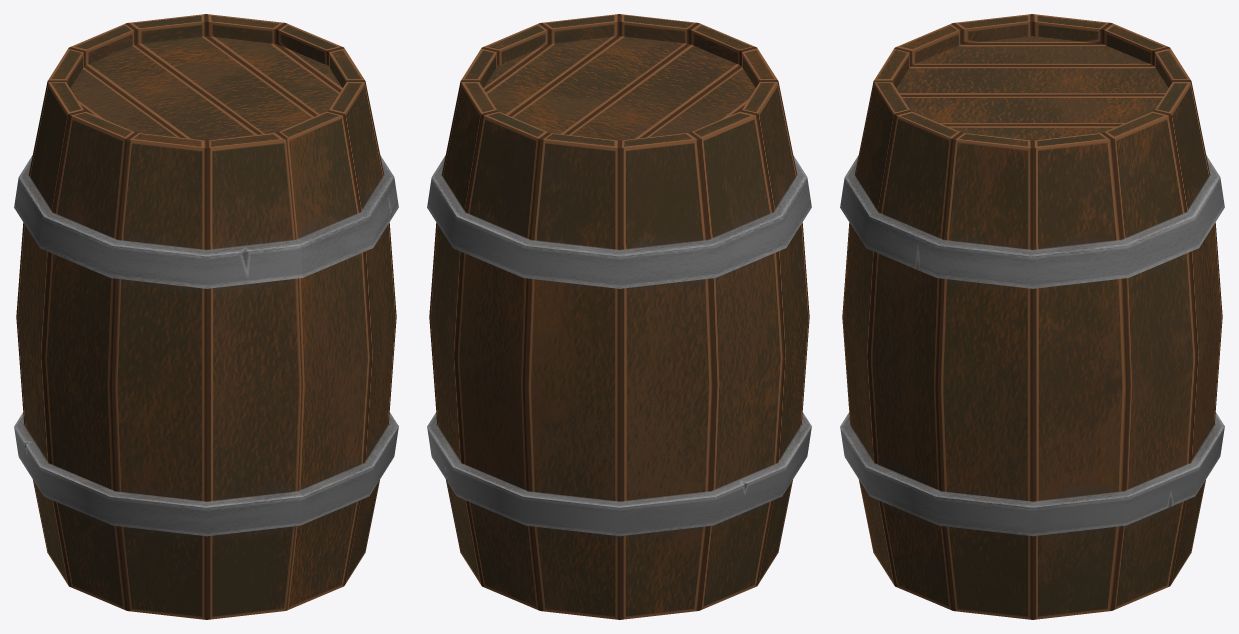
File: Barrel.fbx
3 views of the same model, side by side, from view 1: azimuth 30°, elevation 25°; view 2: azimuth 150°, elevation 25°; view 3: azimuth 270°, elevation 25° (orthographic).
Visible parts, largest first — view 1: Barrel_LOD0; view 2: Barrel_LOD0; view 3: Barrel_LOD0.
Part boxes in pixels (x1,y1,x2,y2): Barrel_LOD0: (14,14,398,619); Barrel_LOD0: (427,14,811,619); Barrel_LOD0: (840,14,1224,619).
Size of what is drawn, in the model's own units: 66.57 by 90 by 66.57.
